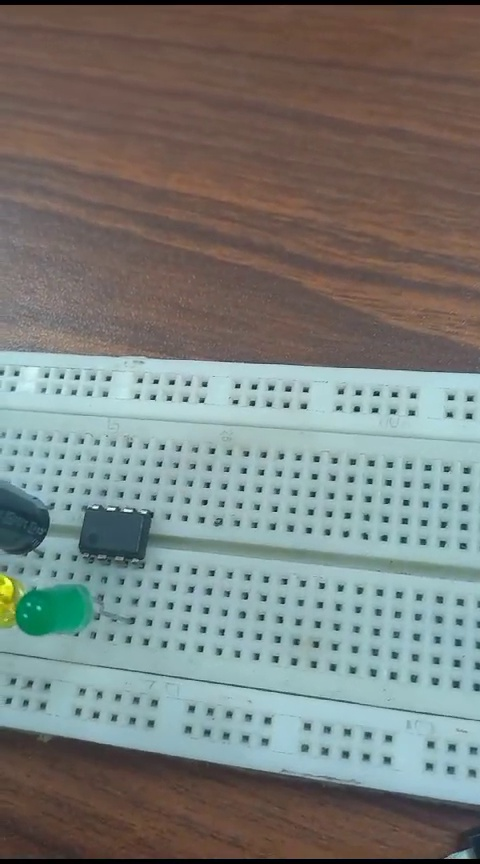IC: (82, 497, 160, 568)
LED: (10, 585, 103, 632)
capacitor: (7, 475, 48, 556)
